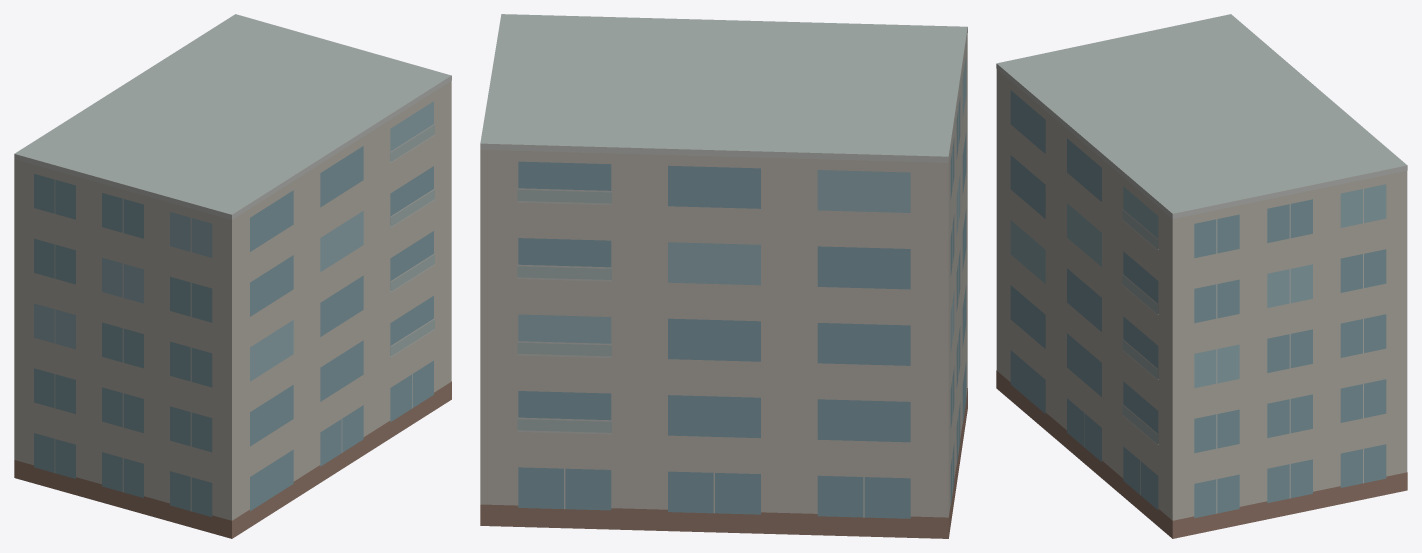
Rendered from survey-upis-32590038.glb.
3 renders of one model, left to right at view 1: azimuth 30°, elevation 25°; view 2: azimuth 150°, elevation 25°; view 3: azimuth 270°, elevation 25°, orthographic. The views are drawn at different scales.
Parts seen in each view (by area): view 1: survey-upis-32590038.tmp; view 2: survey-upis-32590038.tmp; view 3: survey-upis-32590038.tmp.
Part boxes in pixels (x1,y1,x2,y2): survey-upis-32590038.tmp: (14,14,451,538); survey-upis-32590038.tmp: (480,14,967,538); survey-upis-32590038.tmp: (996,14,1407,538).
Bounding box in the file's own units: 20.12 × 15.25 × 17.49.
